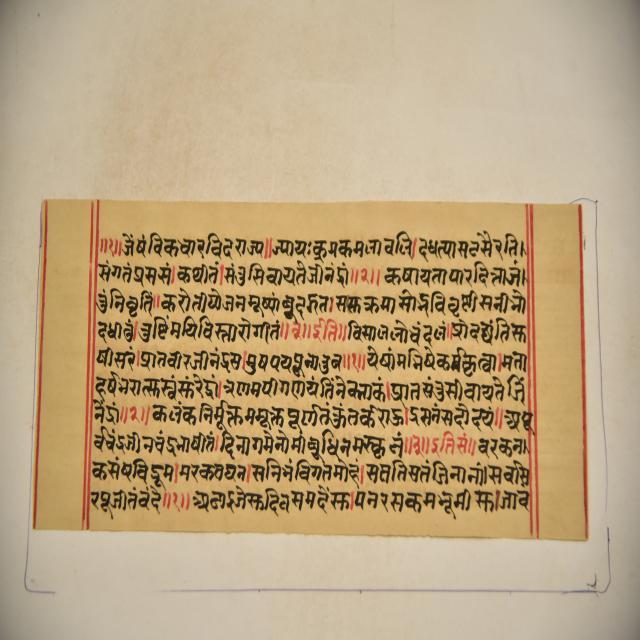text_paragraph: (27, 197, 588, 545)
